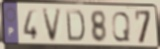4: (22, 8, 40, 42)
7: (134, 9, 153, 46)
8: (89, 9, 108, 45)
D: (64, 8, 86, 43)
Q: (111, 11, 132, 44)
V: (41, 7, 64, 44)
